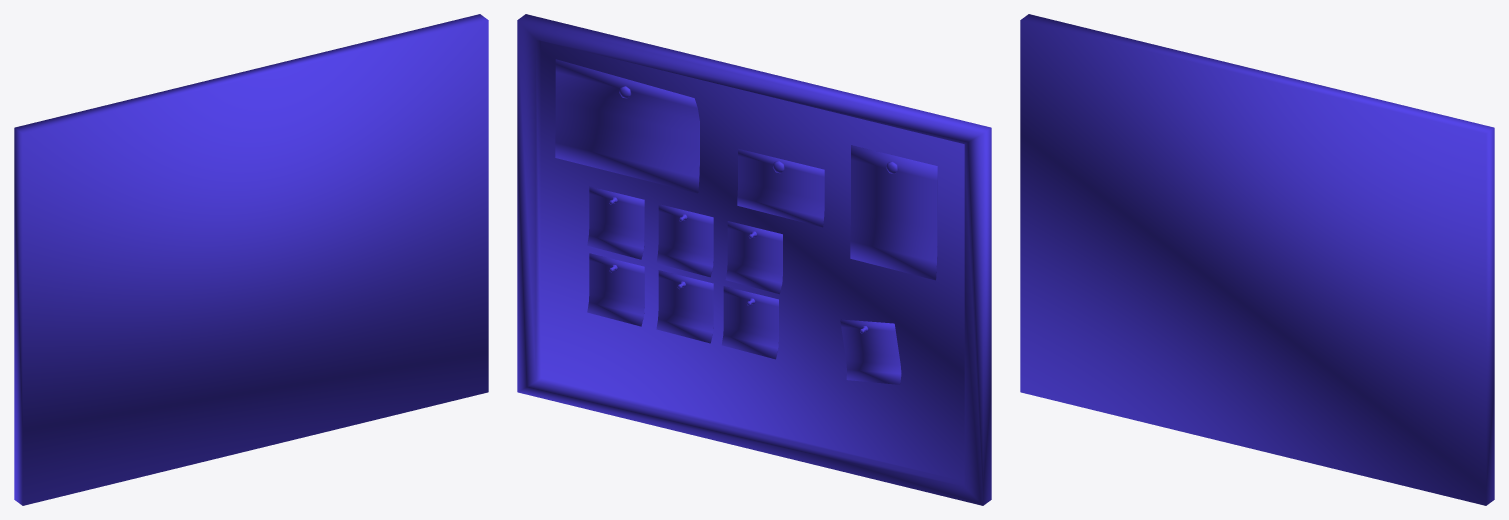
The model's file is Bacheca.fbx.
3 views of the same model, side by side, from view 1: azimuth 30°, elevation 25°; view 2: azimuth 150°, elevation 25°; view 3: azimuth 330°, elevation 25° (orthographic).
Visible parts, largest first — view 1: PostIt1.003; view 2: PostIt1.003; view 3: PostIt1.003.
Part boxes in pixels (x1,y1,x2,y2): PostIt1.003: (14, 14, 488, 505); PostIt1.003: (517, 14, 991, 505); PostIt1.003: (1020, 14, 1494, 505).
Bounding box in the file's own units: 262 × 200 × 8.57.
